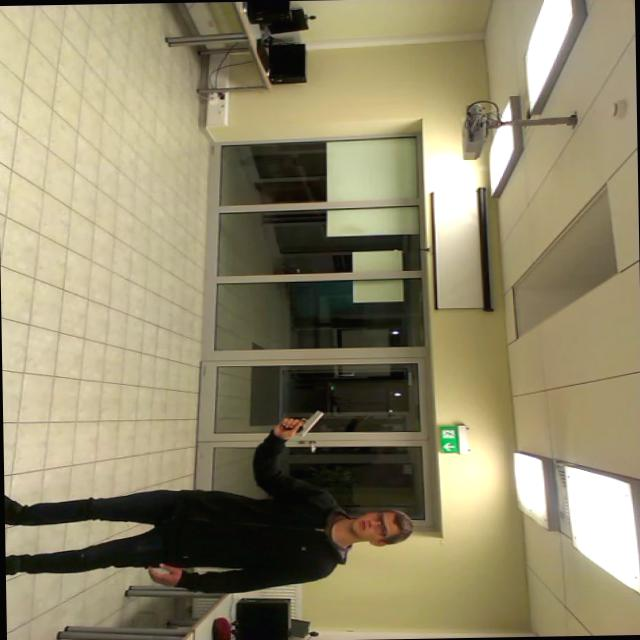handgun: (252, 409, 331, 442)
